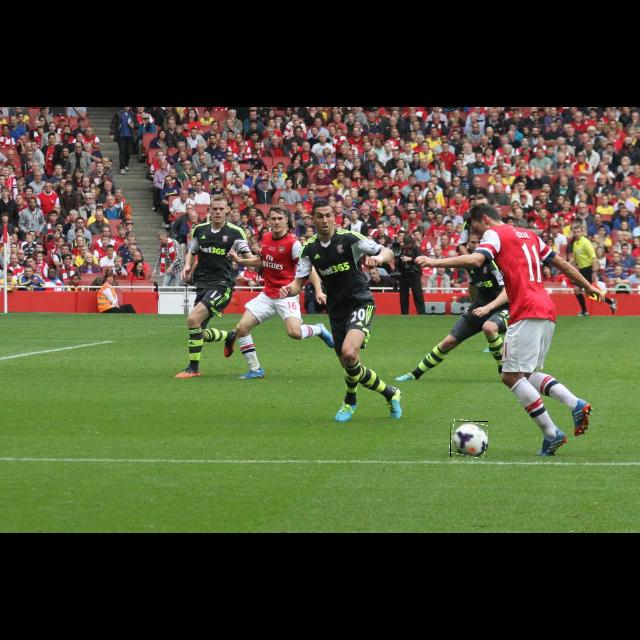Football: (450, 421, 488, 457)
